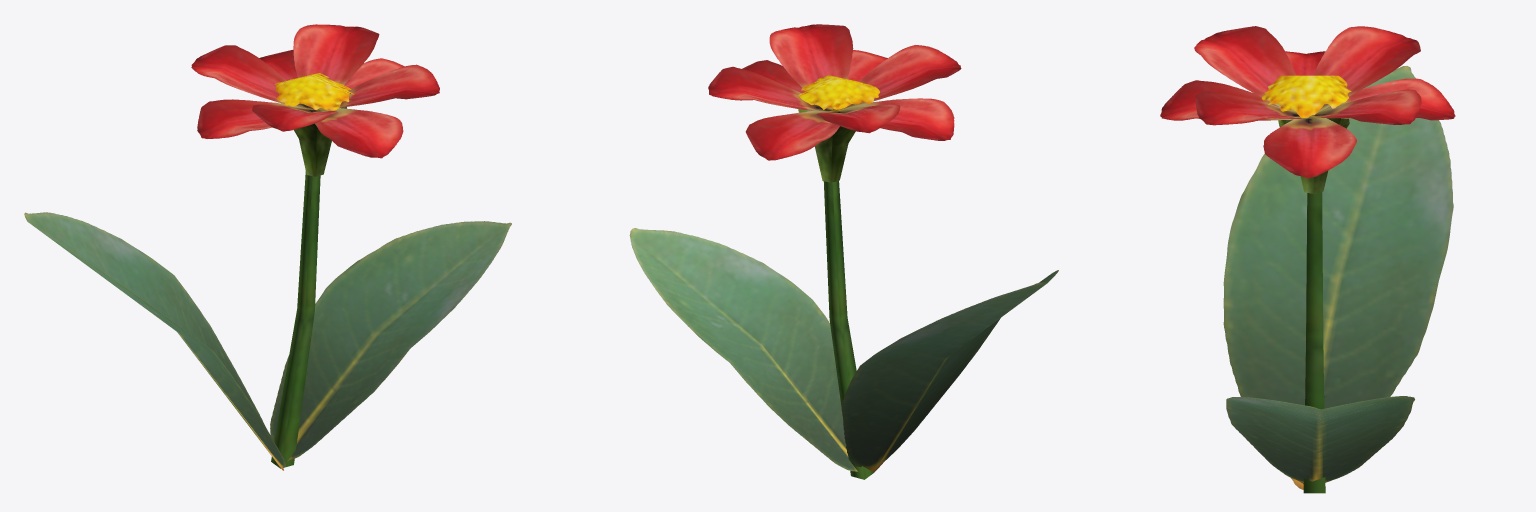
The model's file is redf1.fbx.
The picture shows the model from 3 angles, left to right: view 1: azimuth 30°, elevation 25°; view 2: azimuth 150°, elevation 25°; view 3: azimuth 270°, elevation 25°; orthographic projection. The views are drawn at different scales.
Visible parts, largest first — view 1: redflower01; view 2: redflower01; view 3: redflower01.
Boxes of the visible parts, x1=… form: redflower01: x1=24, y1=24, x2=511, y2=470; redflower01: x1=629, y1=24, x2=1058, y2=479; redflower01: x1=1160, y1=26, x2=1455, y2=493.
Size of the model in its own units: 25.8 by 20.24 by 15.2.
